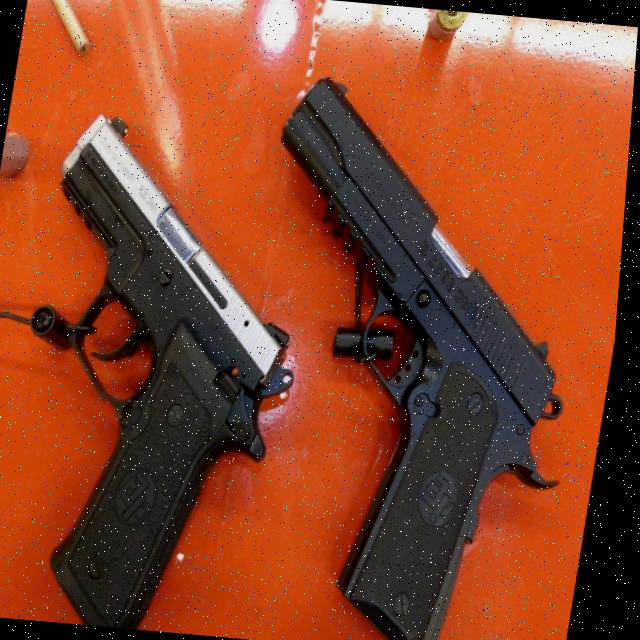pistol: (206, 74, 625, 640), (0, 106, 339, 640)
